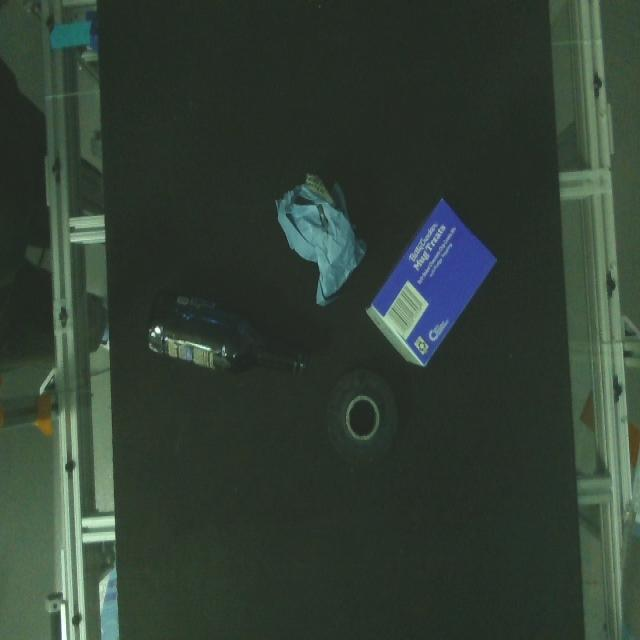non-paper: (139, 281, 316, 396), (322, 371, 403, 464)
paper: (360, 190, 505, 377), (272, 165, 371, 312)
